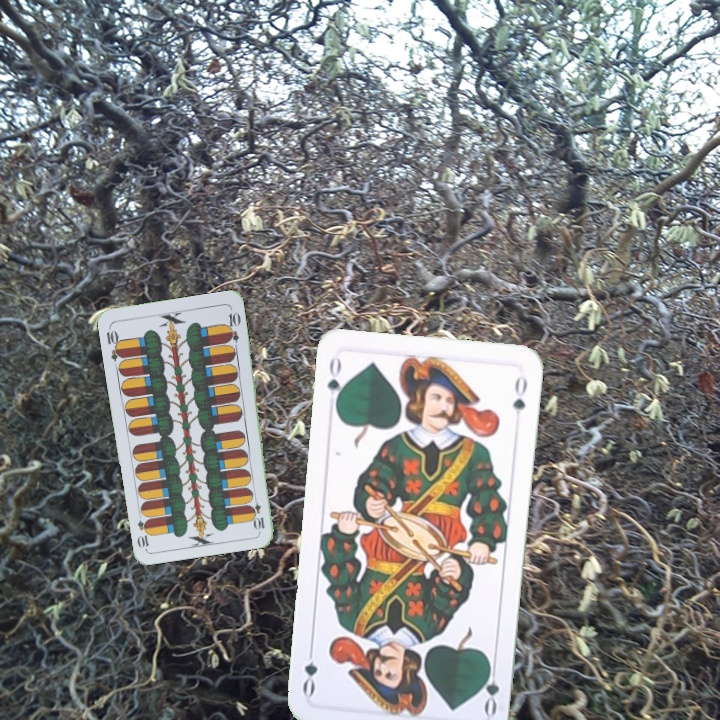E10: (102, 323, 125, 363), (249, 492, 267, 532)
GO: (323, 353, 348, 412), (480, 657, 502, 717)
